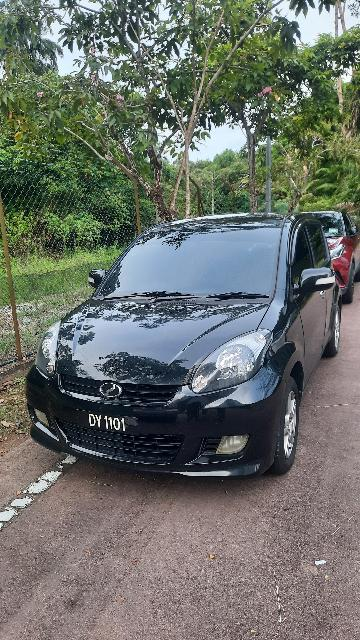License_Plate: (70, 411, 170, 442)
car: (31, 200, 343, 489)
